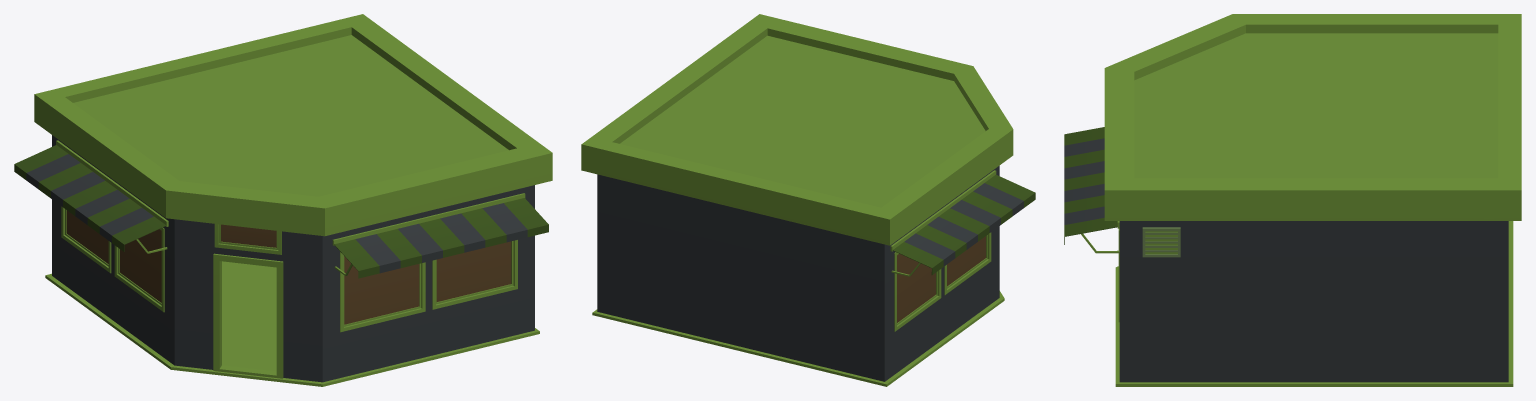
File: SmallHouse_14.fbx
3 views of the same model, side by side, from view 1: azimuth 30°, elevation 25°; view 2: azimuth 150°, elevation 25°; view 3: azimuth 270°, elevation 25° (orthographic). The views are drawn at different scales.
Parts seen in each view (by area): view 1: SmallHouse_14; view 2: SmallHouse_14; view 3: SmallHouse_14.
Boxes of the visible parts, left/top/right/bottom form: SmallHouse_14: left=14, top=14, right=552, bottom=386; SmallHouse_14: left=581, top=14, right=1035, bottom=386; SmallHouse_14: left=1064, top=14, right=1521, bottom=386.
Bounding box in the file's own units: 7.08 × 3.42 × 7.06.
